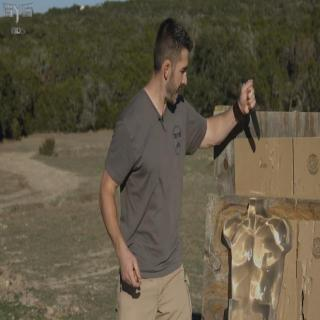knife: (242, 78, 262, 140)
